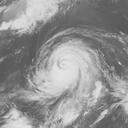cyclone: (34, 39, 100, 101)
